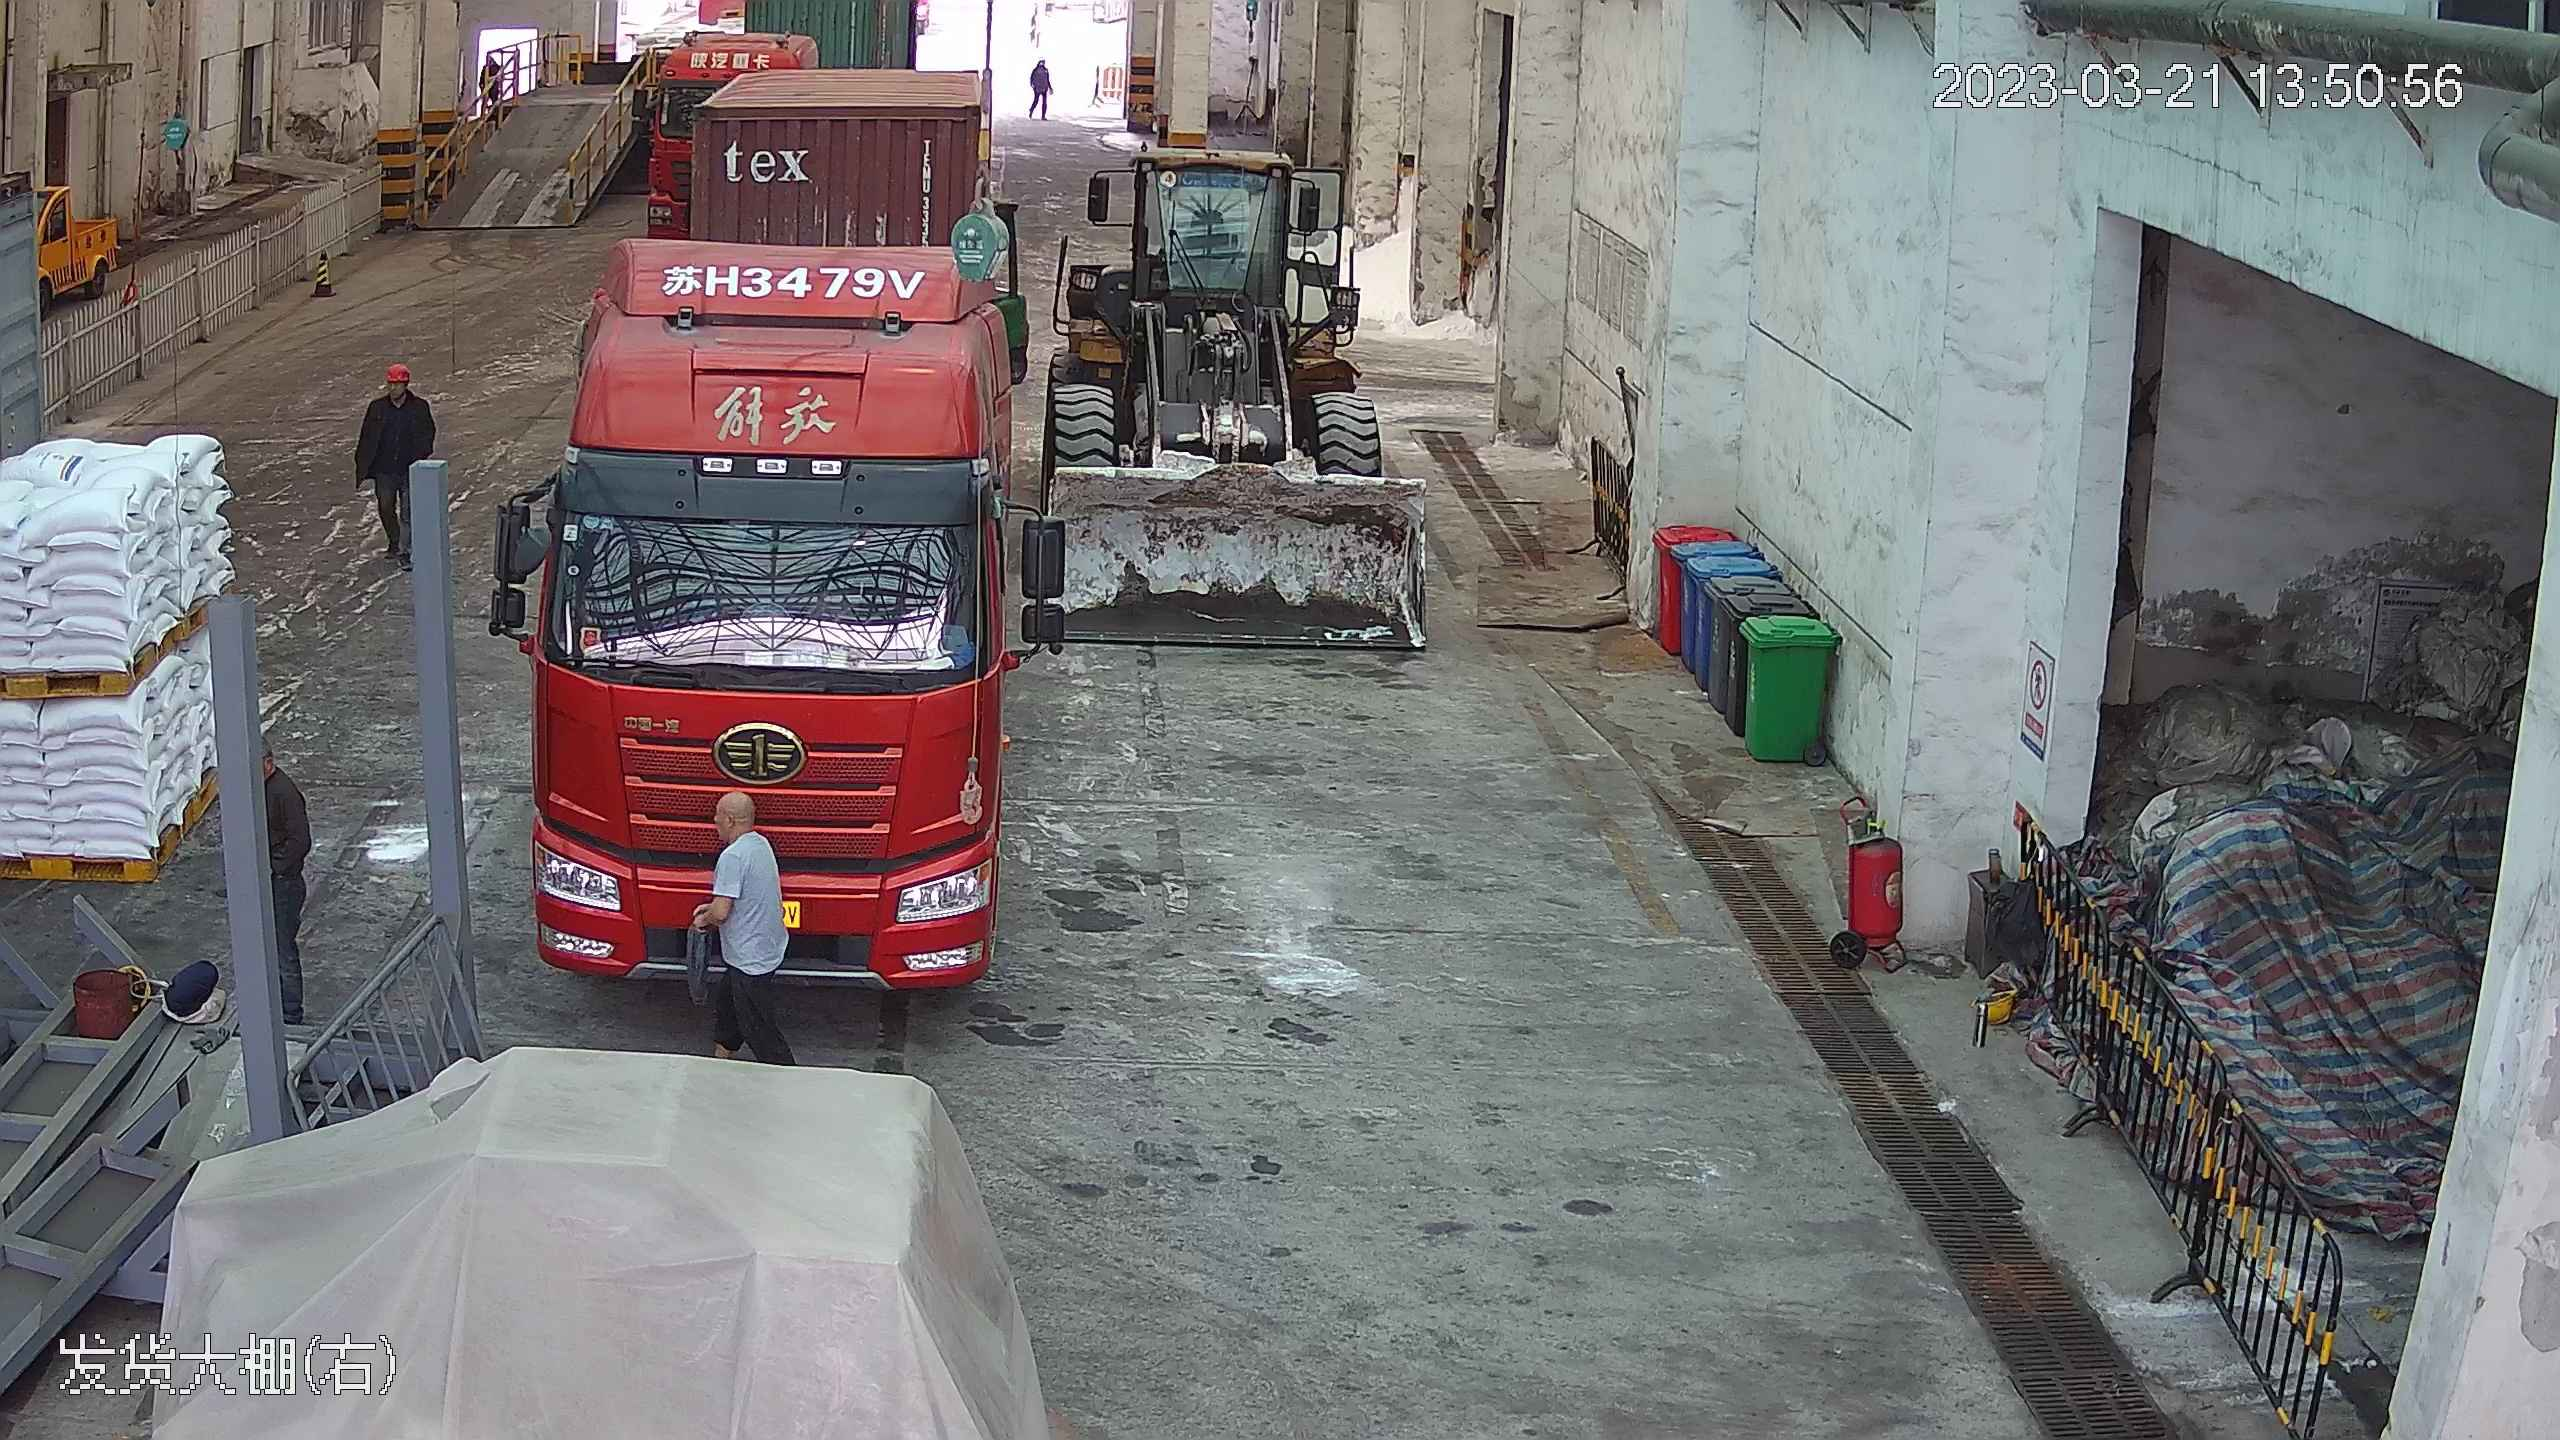head: (710, 793, 778, 879), (363, 358, 429, 423)
helmet: (382, 359, 413, 383)
people: (701, 786, 797, 1058), (355, 354, 435, 566), (257, 744, 315, 1005), (1027, 48, 1054, 119)
truck: (515, 16, 1038, 998)
